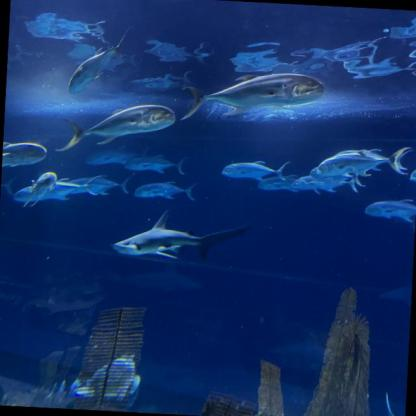fish: (180, 67, 326, 128), (62, 100, 176, 155), (68, 21, 131, 98), (316, 142, 413, 180), (2, 142, 47, 178), (221, 158, 290, 181), (292, 174, 364, 196), (61, 174, 128, 197), (123, 153, 188, 176), (134, 180, 198, 202), (364, 196, 415, 223), (13, 182, 72, 204), (23, 171, 56, 208), (310, 166, 364, 186), (257, 172, 311, 192), (1, 175, 17, 199), (408, 165, 416, 185)
shark: (110, 209, 253, 264), (102, 258, 204, 292)
